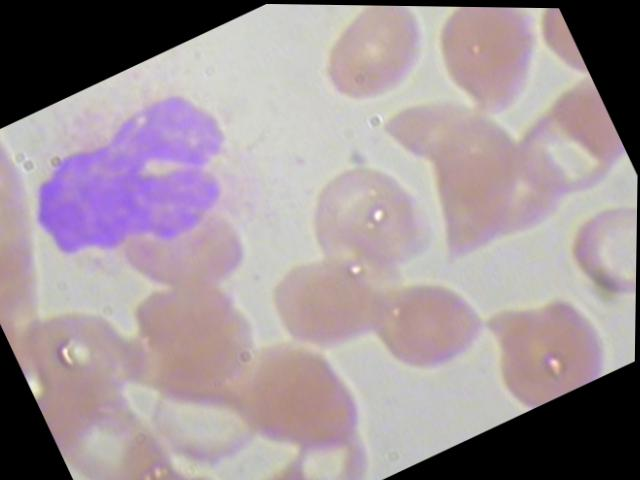Red Blood Cells: (282, 135, 453, 306), (116, 252, 276, 412), (463, 260, 623, 417), (409, 5, 572, 134), (257, 234, 403, 372), (298, 3, 451, 129), (357, 256, 499, 388), (14, 283, 153, 417), (550, 182, 637, 320)
White Blood Cells: (0, 14, 328, 326)
